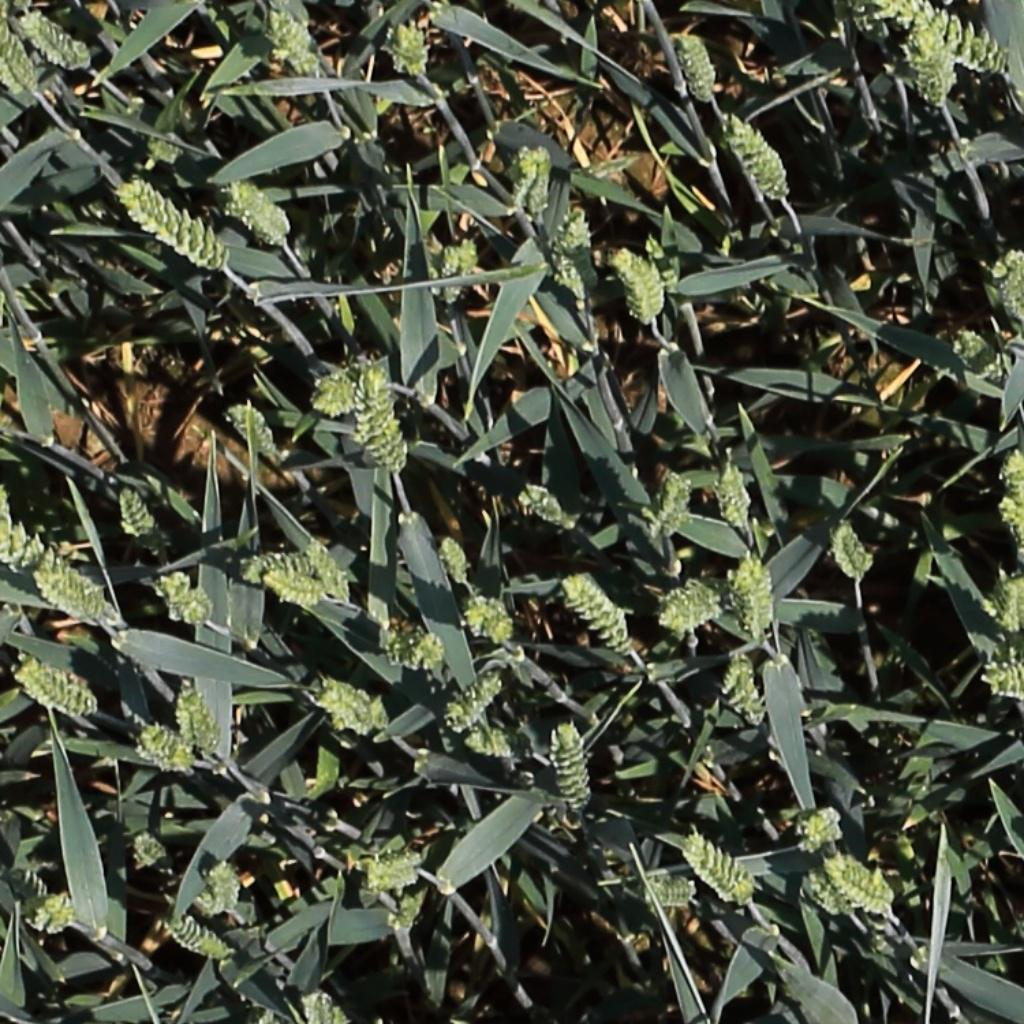0-0: (0, 511, 100, 619), (121, 181, 228, 267), (892, 1, 1011, 76), (562, 572, 637, 658), (310, 671, 397, 744), (726, 107, 793, 200), (12, 662, 109, 715), (685, 836, 757, 902), (657, 575, 733, 635), (116, 483, 172, 563), (365, 361, 405, 472), (33, 570, 112, 624), (613, 243, 664, 324), (733, 552, 773, 648), (180, 675, 225, 760), (228, 398, 285, 465), (445, 673, 506, 735), (303, 533, 354, 607), (827, 861, 897, 914), (723, 651, 767, 735), (305, 361, 371, 416), (226, 180, 293, 234), (649, 464, 693, 546), (677, 24, 720, 107), (506, 141, 552, 218), (554, 719, 589, 820), (19, 12, 81, 69), (379, 622, 442, 678), (152, 570, 210, 628), (0, 16, 40, 98), (918, 23, 954, 113), (632, 870, 707, 913), (348, 851, 424, 893), (641, 226, 686, 296), (718, 456, 756, 536), (802, 869, 856, 922), (354, 364, 382, 466), (266, 6, 318, 60), (132, 376, 169, 451), (166, 917, 232, 959), (465, 595, 514, 648), (835, 517, 872, 587), (136, 727, 192, 772), (442, 236, 478, 305), (393, 15, 430, 81), (978, 581, 1024, 634), (436, 529, 475, 591), (621, 167, 652, 245), (518, 486, 574, 529), (992, 244, 1022, 324), (174, 677, 203, 759), (791, 802, 842, 846), (995, 491, 1024, 565), (25, 895, 76, 936), (116, 825, 170, 861), (265, 573, 328, 602), (211, 856, 238, 922), (241, 557, 315, 578), (1000, 446, 1024, 509), (464, 734, 517, 760), (304, 984, 335, 1024), (984, 671, 1024, 697)
